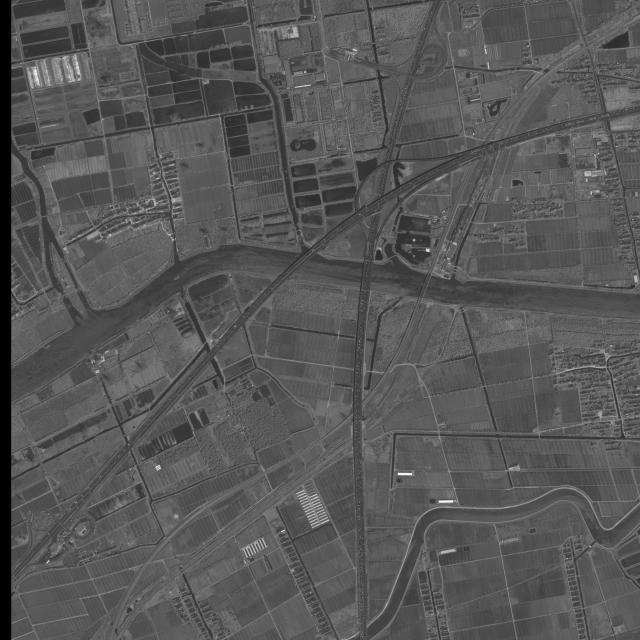ship: (173, 274, 182, 281), (44, 343, 53, 350), (391, 283, 400, 286), (456, 287, 466, 289)
